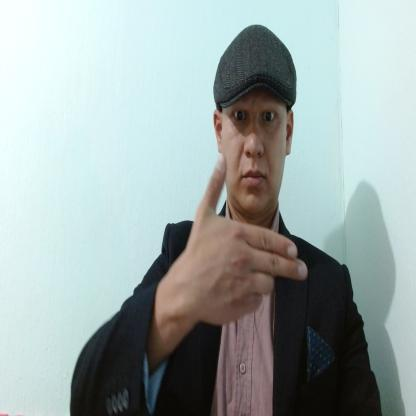H: (190, 152, 310, 324)
